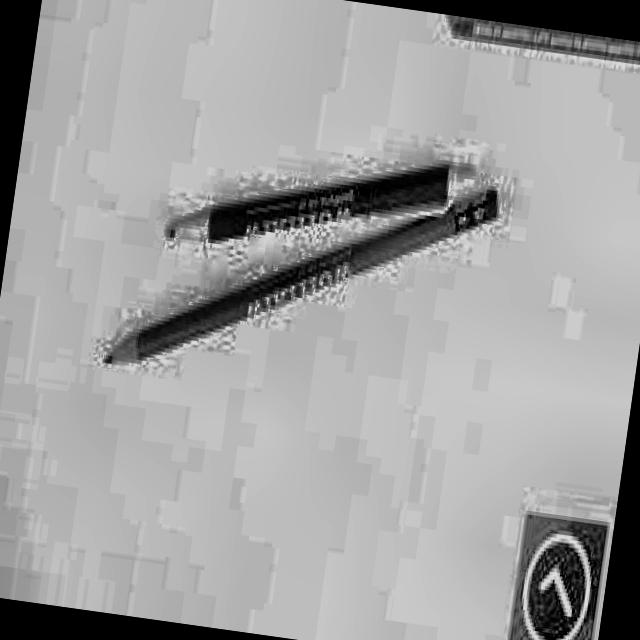Pen: (170, 163, 492, 243)
